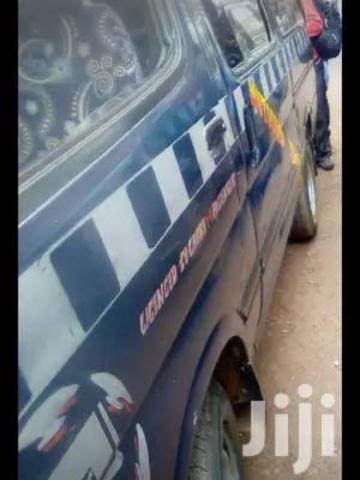van: (18, 1, 315, 479)
